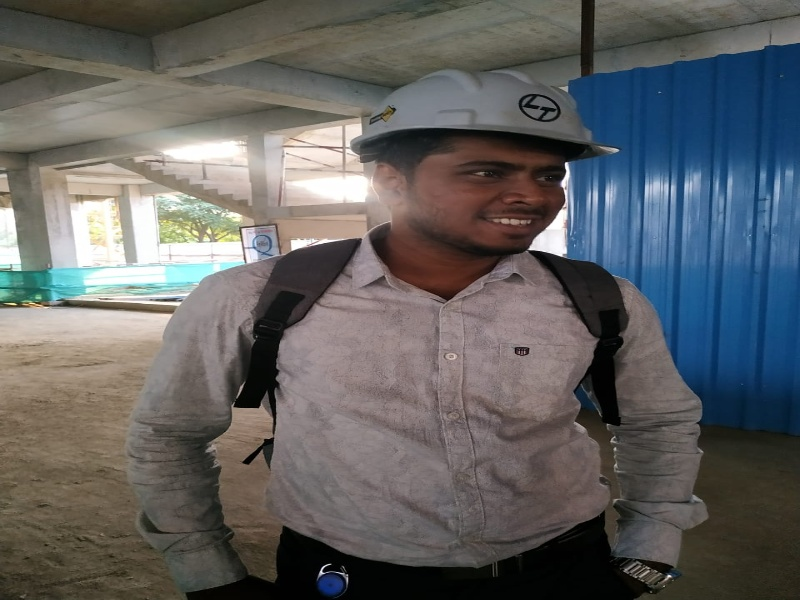Face: (351, 63, 619, 153)
